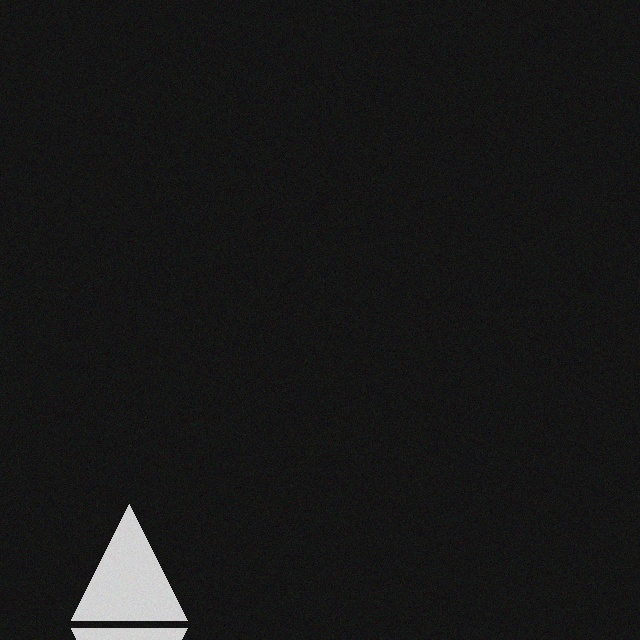triangle: (69, 519, 185, 635)
